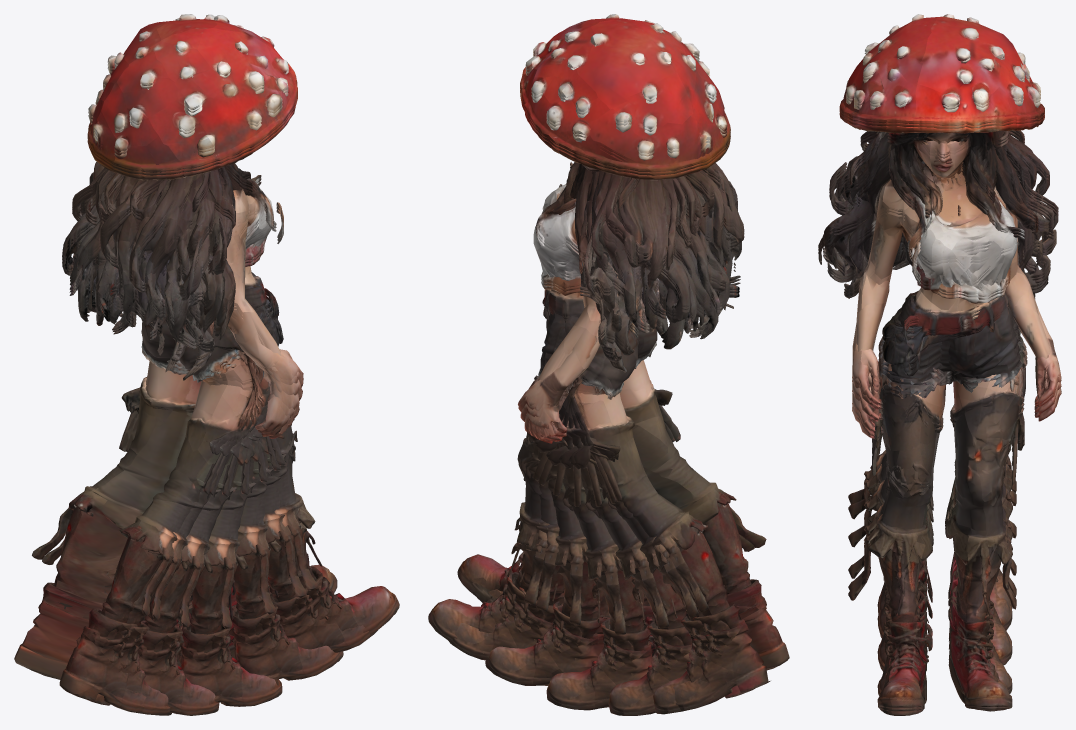
Rendered from houbovy_bojovnik.glb.
3 views of the same model, side by side, from view 1: azimuth 30°, elevation 25°; view 2: azimuth 150°, elevation 25°; view 3: azimuth 270°, elevation 25° (orthographic).
Visible parts, largest first — view 1: houbovy_bojovnik_telo_03, houbovy_bojovnik_nohy_03, houbovy_bojovnik_nohy_09, houbovy_bojovnik_nohy_00, houbovy_bojovnik_nohy_01, houbovy_bojovnik_telo_00, houbovy_bojovnik_nohy_07, houbovy_bojovnik_nohy_02, houbovy_bojovnik_telo_01, houbovy_bojovnik_nohy_08, houbovy_bojovnik_telo_02; view 2: houbovy_bojovnik_telo_03, houbovy_bojovnik_nohy_09, houbovy_bojovnik_nohy_03, houbovy_bojovnik_nohy_00, houbovy_bojovnik_nohy_07, houbovy_bojovnik_telo_00, houbovy_bojovnik_nohy_01, houbovy_bojovnik_nohy_08, houbovy_bojovnik_telo_01, houbovy_bojovnik_nohy_02, houbovy_bojovnik_telo_02; view 3: houbovy_bojovnik_telo_03, houbovy_bojovnik_nohy_03, houbovy_bojovnik_nohy_09, houbovy_bojovnik_telo_00, houbovy_bojovnik_telo_01, houbovy_bojovnik_nohy_00, houbovy_bojovnik_telo_02, houbovy_bojovnik_nohy_01, houbovy_bojovnik_nohy_07, houbovy_bojovnik_nohy_02, houbovy_bojovnik_nohy_08.
Part boxes in pixels (<box>): houbovy_bojovnik_telo_03: <box>62,14,297,338</box>; houbovy_bojovnik_nohy_03: <box>14,274,399,679</box>; houbovy_bojovnik_nohy_09: <box>59,272,337,713</box>; houbovy_bojovnik_nohy_00: <box>79,295,299,706</box>; houbovy_bojovnik_nohy_01: <box>87,292,343,685</box>; houbovy_bojovnik_telo_00: <box>62,66,297,346</box>; houbovy_bojovnik_nohy_07: <box>80,300,295,715</box>; houbovy_bojovnik_nohy_02: <box>32,290,377,679</box>; houbovy_bojovnik_telo_01: <box>62,40,297,342</box>; houbovy_bojovnik_nohy_08: <box>80,295,291,715</box>; houbovy_bojovnik_telo_02: <box>62,17,297,339</box>; houbovy_bojovnik_telo_03: <box>520,14,744,332</box>; houbovy_bojovnik_nohy_09: <box>428,295,789,670</box>; houbovy_bojovnik_nohy_03: <box>457,276,770,711</box>; houbovy_bojovnik_nohy_00: <box>524,308,717,710</box>; houbovy_bojovnik_nohy_07: <box>485,305,712,685</box>; houbovy_bojovnik_telo_00: <box>520,56,744,339</box>; houbovy_bojovnik_nohy_01: <box>529,293,730,715</box>; houbovy_bojovnik_nohy_08: <box>448,302,754,660</box>; houbovy_bojovnik_telo_01: <box>520,30,744,336</box>; houbovy_bojovnik_nohy_02: <box>477,290,754,714</box>; houbovy_bojovnik_telo_02: <box>520,27,744,333</box>; houbovy_bojovnik_telo_03: <box>818,14,1058,311</box>; houbovy_bojovnik_nohy_03: <box>848,264,1061,707</box>; houbovy_bojovnik_nohy_09: <box>827,263,1061,706</box>; houbovy_bojovnik_telo_00: <box>818,64,1058,317</box>; houbovy_bojovnik_telo_01: <box>818,35,1058,314</box>; houbovy_bojovnik_nohy_00: <box>827,261,1061,696</box>; houbovy_bojovnik_telo_02: <box>818,16,1058,311</box>; houbovy_bojovnik_nohy_01: <box>836,262,1058,715</box>; houbovy_bojovnik_nohy_07: <box>827,260,1061,711</box>; houbovy_bojovnik_nohy_02: <box>844,261,1061,711</box>; houbovy_bojovnik_nohy_08: <box>827,259,1061,709</box>.
Bounding box in the file's own units: 1.05 × 1.93 × 0.6468.
1 material, 1 textured.
